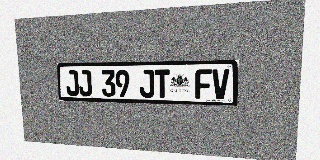3: (101, 70, 116, 97)
9: (115, 70, 130, 97)
F: (195, 69, 212, 99)
J: (139, 70, 154, 98), (65, 70, 79, 96), (78, 70, 92, 96)
T: (154, 69, 170, 98)
V: (212, 69, 229, 99)
